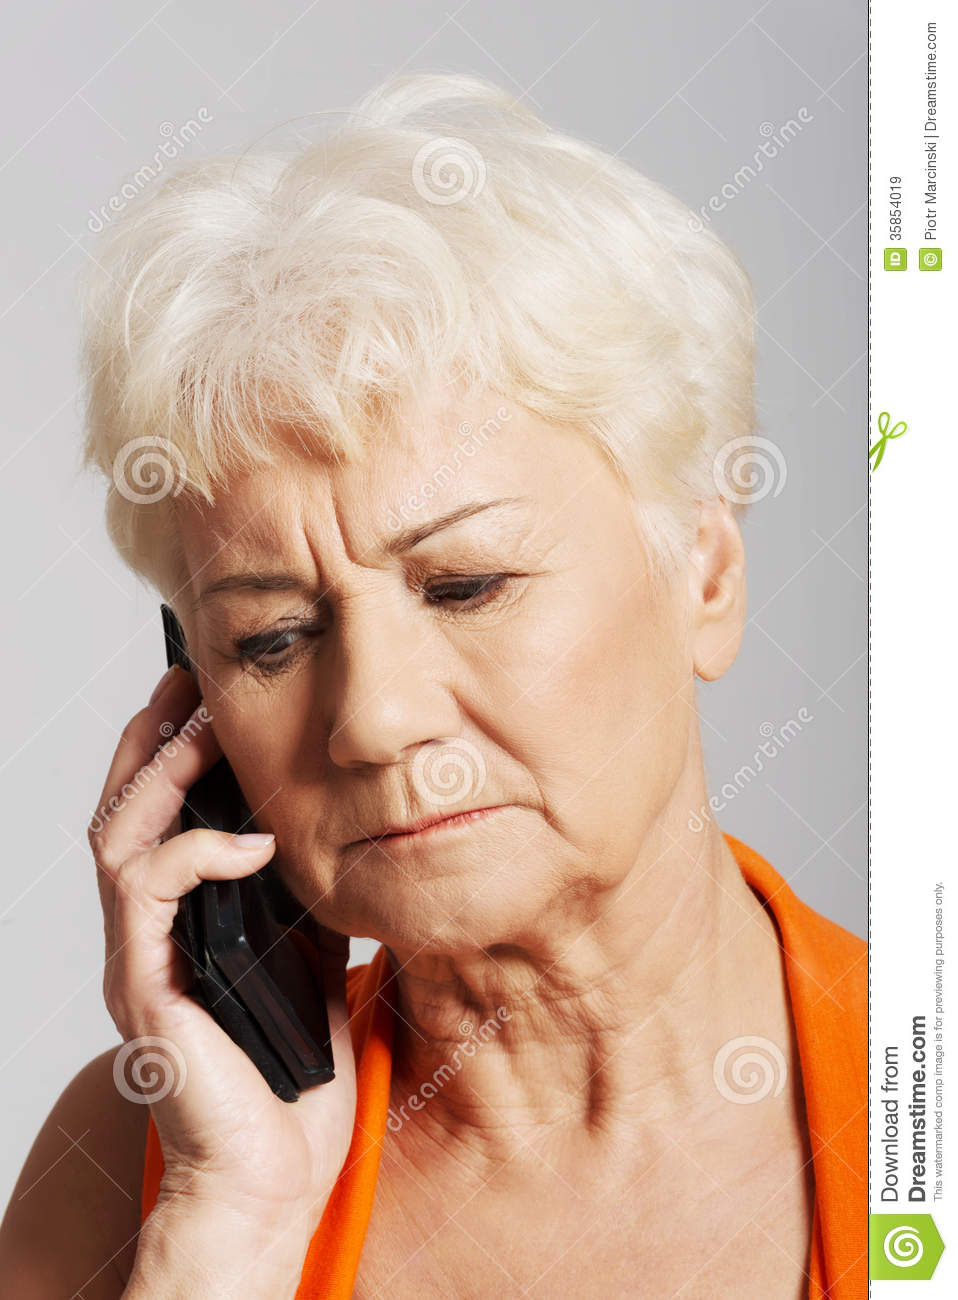phone: (147, 604, 332, 1110)
talk: (90, 467, 602, 1254)
